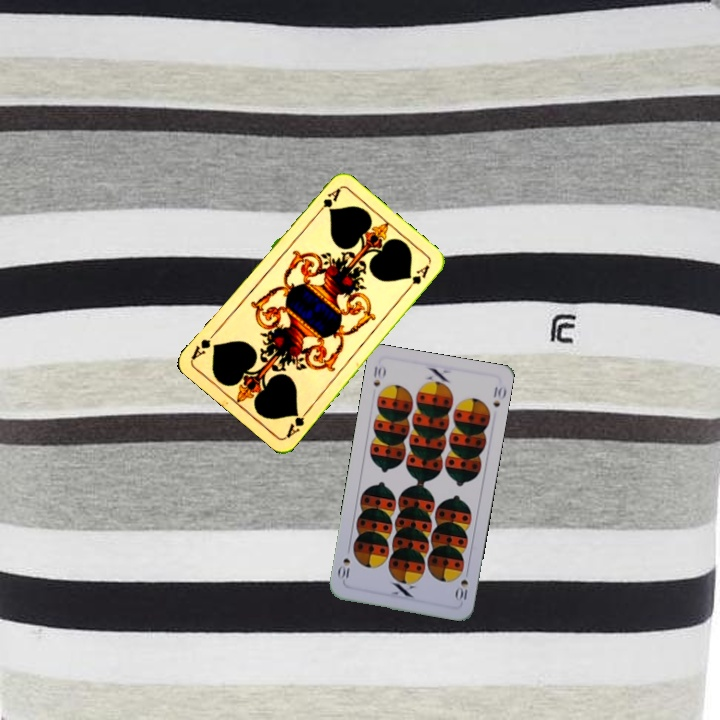GA: (282, 405, 312, 441), (312, 184, 343, 218)
S10: (452, 565, 471, 605), (369, 361, 388, 389)
